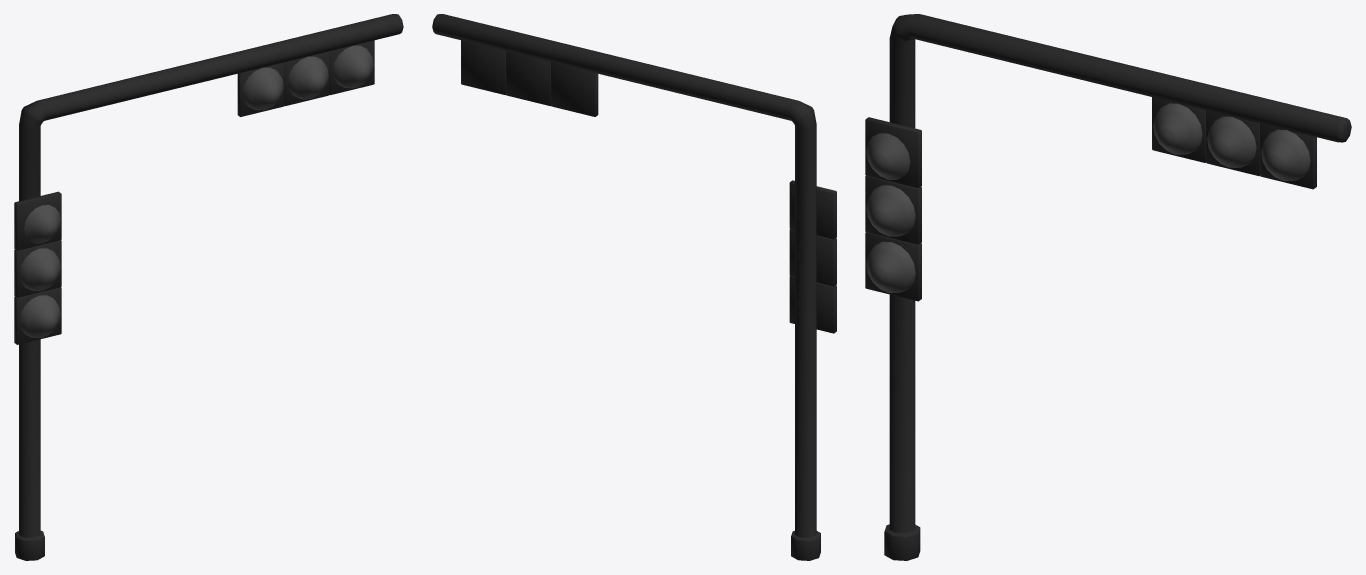
File: traffic lamp (3).fbx
The picture shows the model from 3 angles, left to right: view 1: azimuth 30°, elevation 25°; view 2: azimuth 150°, elevation 25°; view 3: azimuth 330°, elevation 25°; orthographic projection. The views are drawn at different scales.
Parts seen in each view (by area): view 1: traffic lamp; view 2: traffic lamp; view 3: traffic lamp.
Part boxes in pixels (<box>): traffic lamp: <box>14,14,403,560</box>; traffic lamp: <box>432,14,836,560</box>; traffic lamp: <box>865,14,1351,560</box>.
Bounding box in the file's own units: 267 × 294 × 33.29.
